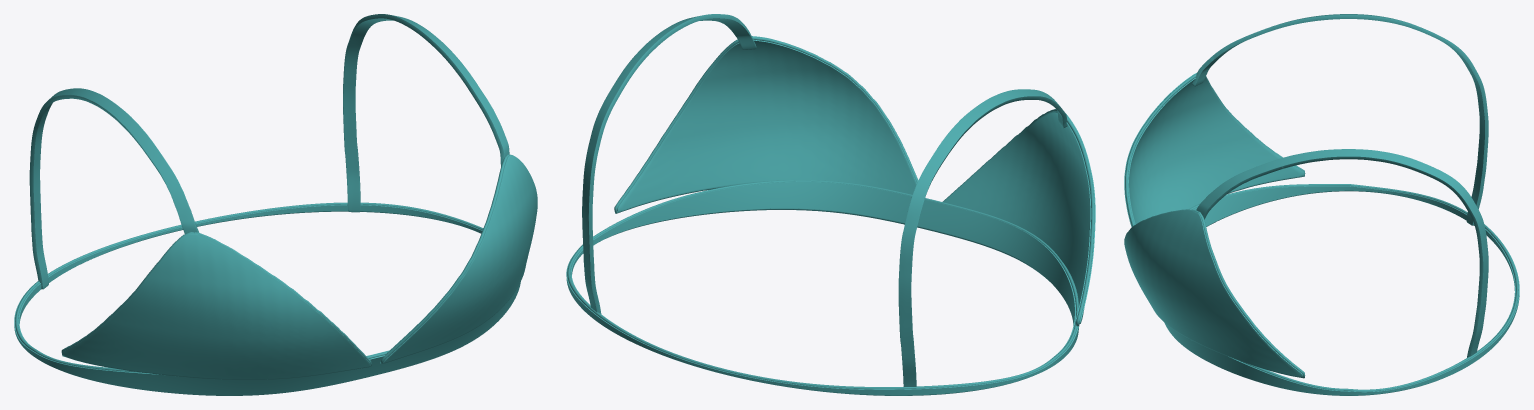
Rendered from Feminine-triangle-top.glb.
The picture shows the model from 3 angles, left to right: view 1: azimuth 30°, elevation 25°; view 2: azimuth 150°, elevation 25°; view 3: azimuth 270°, elevation 25°; orthographic projection. The views are drawn at different scales.
Parts seen in each view (by area): view 1: Clothing / triangle cup -1, Clothing / triangle cup 1, Clothing / Triangle underband, Clothing / Triangle strap -1, Clothing / Triangle strap 1, Triangle underband / bound edge.001 export, Triangle / cup edge -1 export, Triangle / cup edge 1 export; view 2: Clothing / triangle cup 1, Clothing / Triangle underband, Clothing / triangle cup -1, Clothing / Triangle strap -1, Clothing / Triangle strap 1, Triangle underband / bound edge.001 export, Triangle / cup edge 1 export, Triangle / cup edge -1 export, Triangle underband / bound edge export; view 3: Clothing / triangle cup -1, Clothing / triangle cup 1, Clothing / Triangle underband, Clothing / Triangle strap 1, Clothing / Triangle strap -1, Triangle underband / bound edge.001 export, Triangle / cup edge -1 export, Triangle / cup edge 1 export, Triangle underband / bound edge export.
Boxes of the visible parts, box(x1,y1,x2,y2) form: Clothing / triangle cup -1: box(62, 233, 370, 379); Clothing / triangle cup 1: box(383, 155, 537, 363); Clothing / Triangle underband: box(14, 204, 520, 395); Clothing / Triangle strap -1: box(29, 88, 198, 289); Clothing / Triangle strap 1: box(343, 14, 509, 212); Triangle underband / bound edge.001 export: box(15, 202, 483, 372); Triangle / cup edge -1 export: box(61, 232, 371, 374); Triangle / cup edge 1 export: box(380, 154, 513, 363); Clothing / triangle cup 1: box(617, 36, 916, 211); Clothing / Triangle underband: box(566, 181, 1079, 395); Clothing / triangle cup -1: box(943, 111, 1095, 323); Clothing / Triangle strap -1: box(898, 89, 1067, 386); Clothing / Triangle strap 1: box(582, 14, 756, 313); Triangle underband / bound edge.001 export: box(567, 180, 1078, 389); Triangle / cup edge 1 export: box(614, 36, 918, 213); Triangle / cup edge -1 export: box(942, 109, 1094, 326); Triangle underband / bound edge export: box(608, 208, 1049, 395); Clothing / triangle cup -1: box(1124, 73, 1304, 227); Clothing / triangle cup 1: box(1124, 210, 1302, 377); Clothing / Triangle underband: box(1164, 186, 1519, 395); Clothing / Triangle strap 1: box(1196, 149, 1488, 357); Clothing / Triangle strap -1: box(1192, 14, 1488, 225); Triangle underband / bound edge.001 export: box(1189, 184, 1518, 391); Triangle / cup edge -1 export: box(1125, 73, 1305, 226); Triangle / cup edge 1 export: box(1134, 209, 1305, 378); Triangle underband / bound edge export: box(1206, 190, 1447, 395).
Size of the model in its own units: 0.6062 by 0.2889 by 0.4897.
